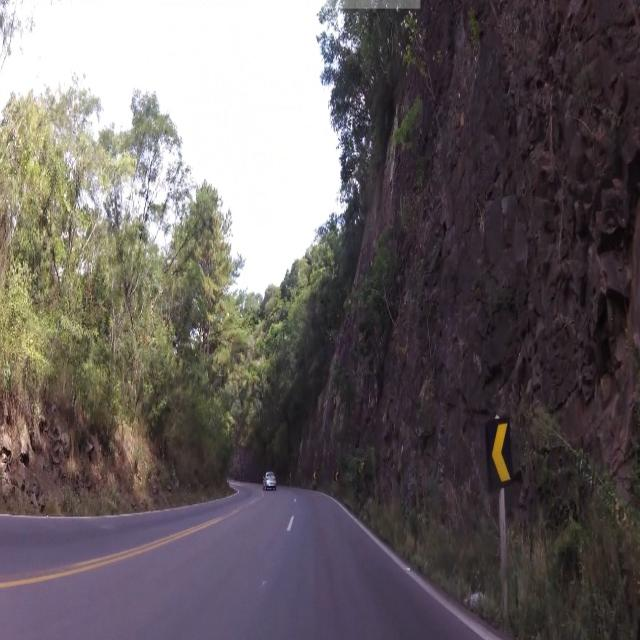Del: (487, 412, 512, 491)
